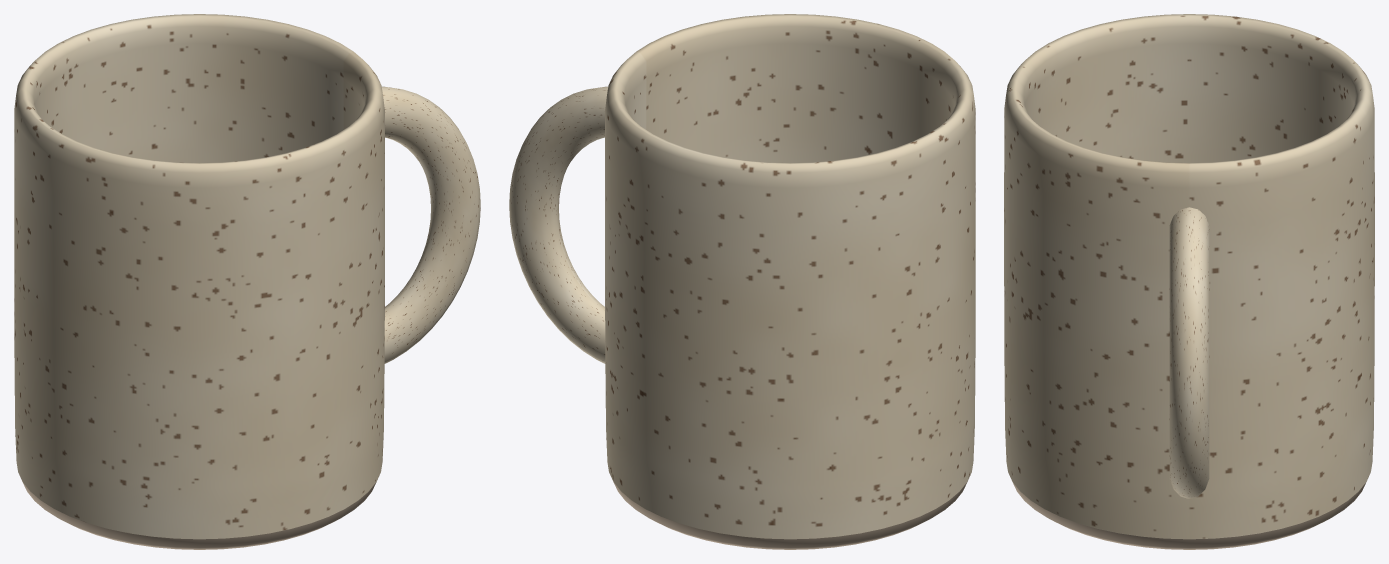
3 renders of one model, left to right at view 1: azimuth 30°, elevation 25°; view 2: azimuth 150°, elevation 25°; view 3: azimuth 270°, elevation 25°, orthographic.
Visible parts, largest first — view 1: Ceramic mug; view 2: Ceramic mug; view 3: Ceramic mug.
Part boxes in pixels (<box>): Ceramic mug: <box>14,14,480,549</box>; Ceramic mug: <box>509,14,975,549</box>; Ceramic mug: <box>1004,14,1374,549</box>.
Bounding box in the file's own units: 0.1123 × 0.095 × 0.082.
Materials: 2 (1 with a texture image).
